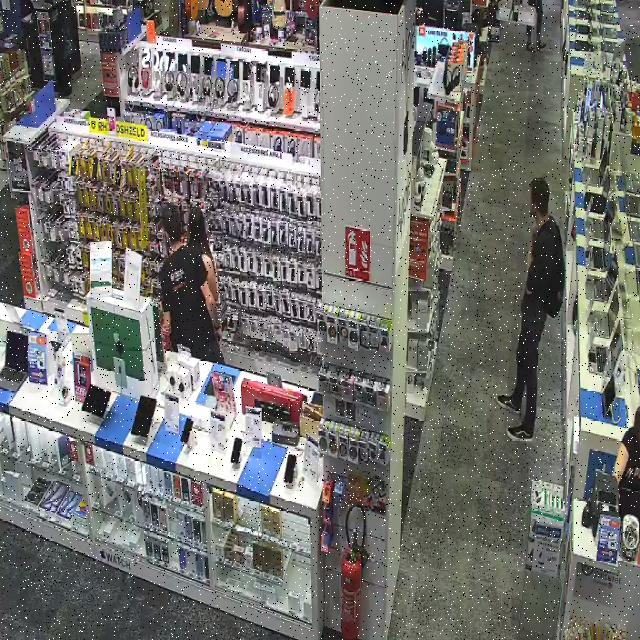person: (496, 177, 564, 440), (159, 203, 224, 363), (187, 206, 216, 303), (214, 320, 221, 341)
